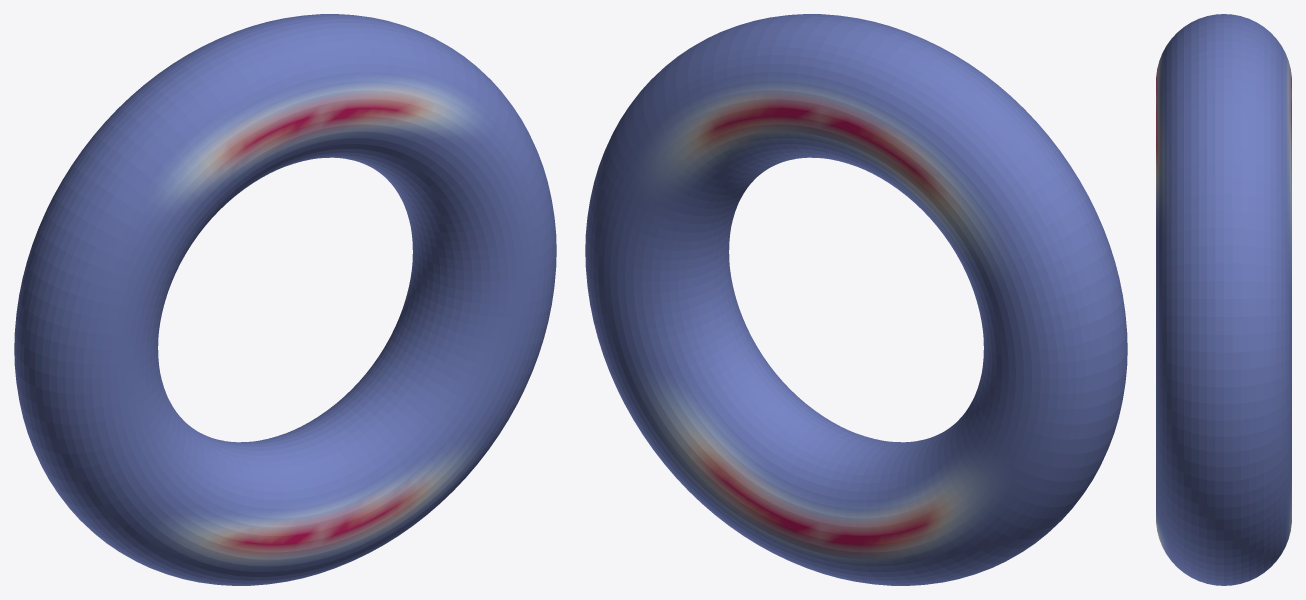
3 renders of one model, left to right at view 1: azimuth 30°, elevation 25°; view 2: azimuth 150°, elevation 25°; view 3: azimuth 270°, elevation 25°, orthographic. The views are drawn at different scales.
Parts seen in each view (by area): view 1: world; view 2: world; view 3: world.
Boxes of the visible parts, box(x1,y1,x2,y2) form: world: box(14, 14, 556, 585); world: box(585, 14, 1127, 585); world: box(1156, 14, 1291, 585).
Size of the model in its own units: 14 by 14 by 3.33.
